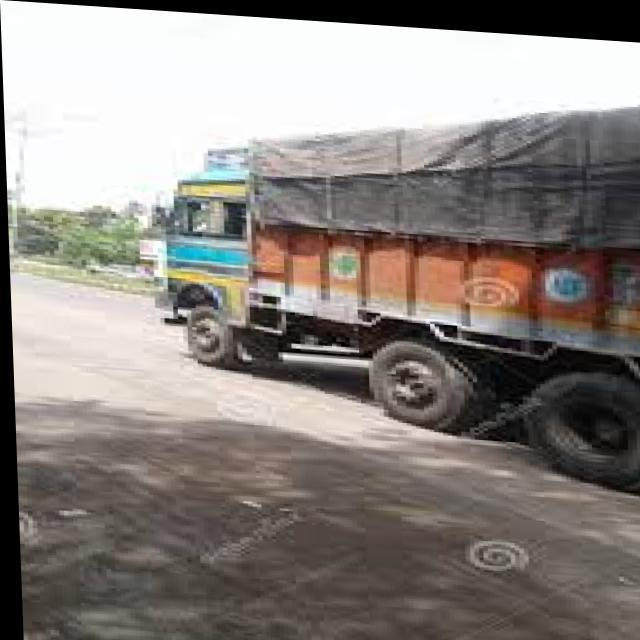covered: (140, 45, 640, 488)
